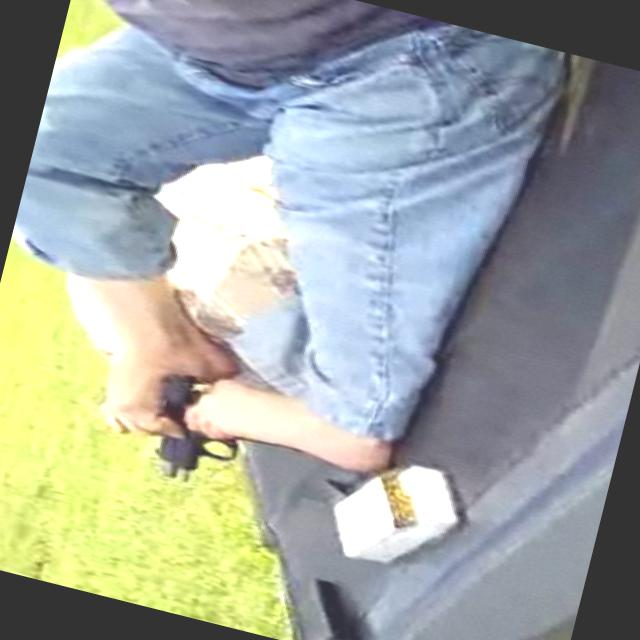handgun: (133, 368, 309, 508)
